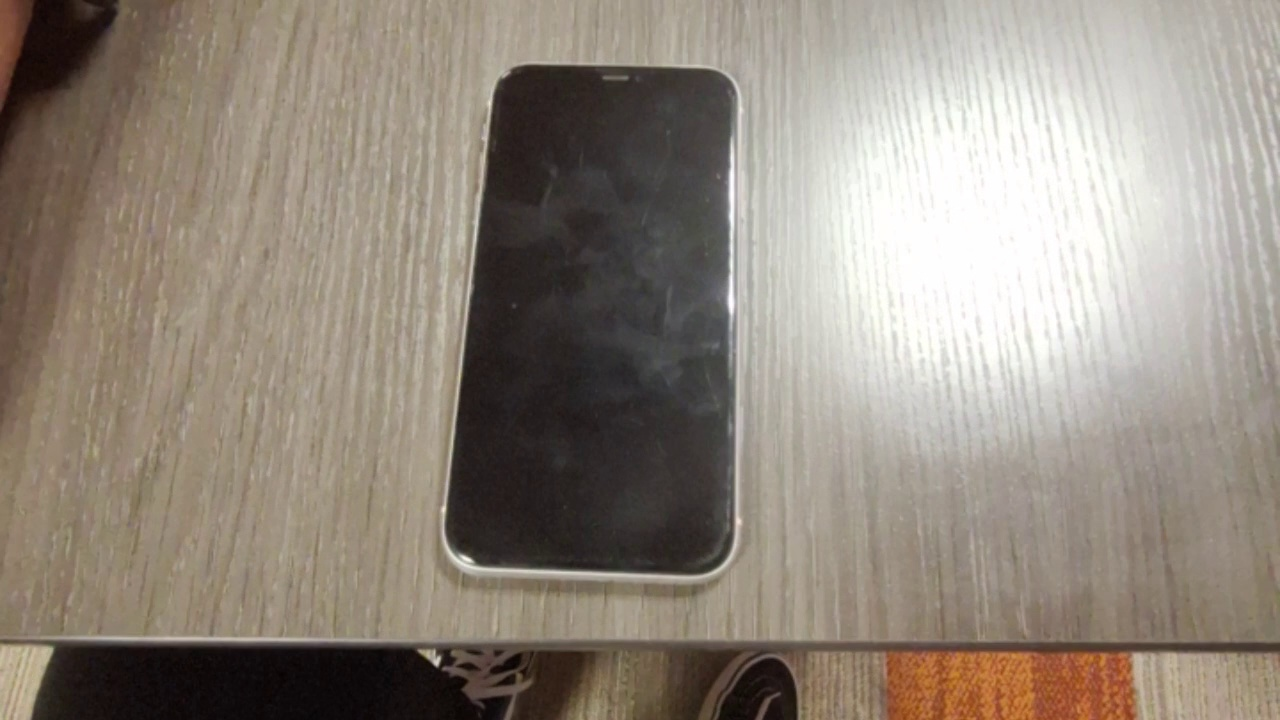celular: (440, 65, 743, 588)
